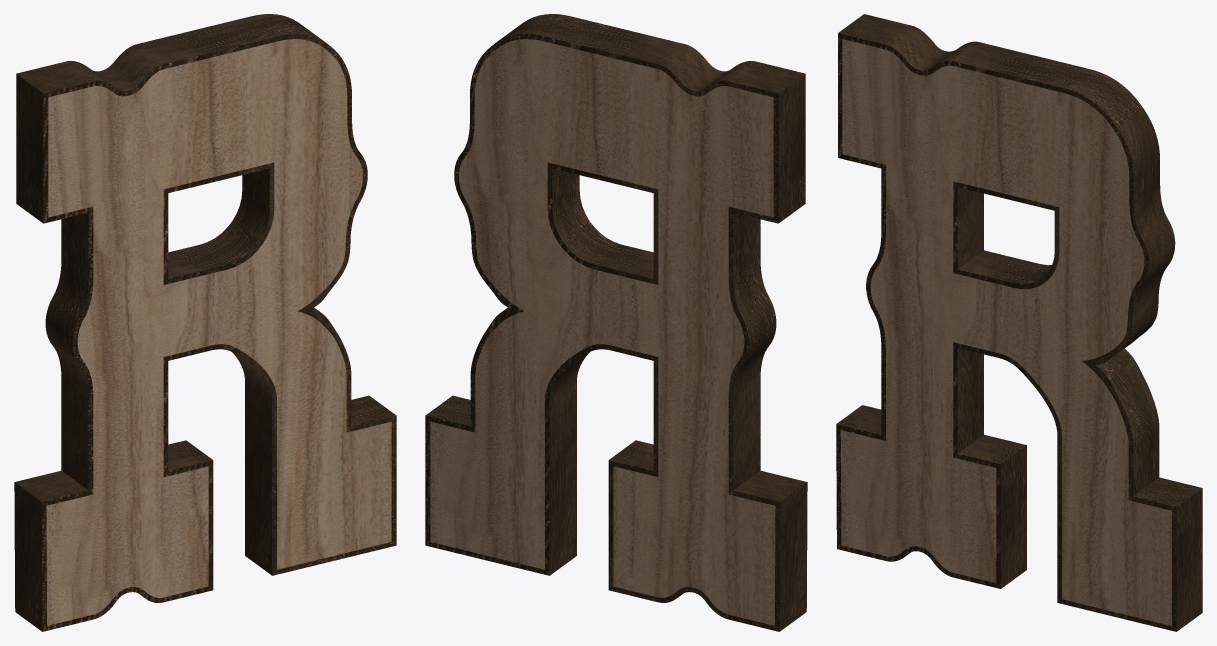
The picture shows the model from 3 angles, left to right: view 1: azimuth 30°, elevation 25°; view 2: azimuth 150°, elevation 25°; view 3: azimuth 330°, elevation 25°; orthographic projection. The views are drawn at different scales.
Parts seen in each view (by area): view 1: R, R_outline; view 2: R, R_outline; view 3: R, R_outline.
Part boxes in pixels (x1,y1,x2,y2): R: (46, 39, 391, 625); R_outline: (14, 14, 396, 631); R: (430, 39, 775, 625); R_outline: (425, 14, 807, 631); R: (840, 39, 1171, 625); R_outline: (836, 14, 1202, 631).
Bounding box in the file's own units: 75.07 × 109 × 10.
Materials: 2 (2 with a texture image).
